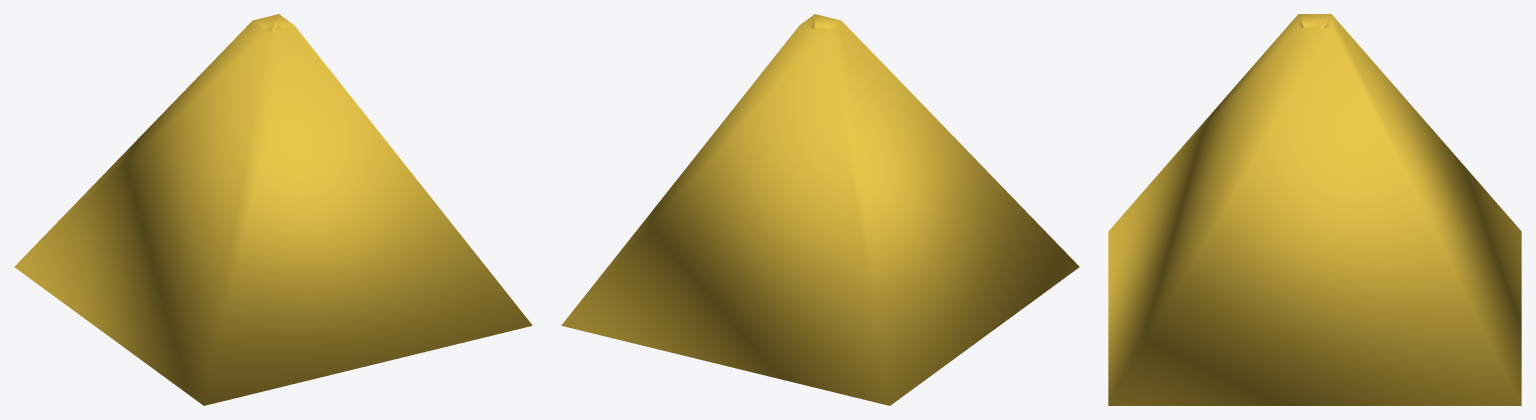
The model's file is warehouse.fbx.
3 views of the same model, side by side, from view 1: azimuth 30°, elevation 25°; view 2: azimuth 150°, elevation 25°; view 3: azimuth 270°, elevation 25° (orthographic). The views are drawn at different scales.
Visible parts, largest first — view 1: 平面.007; view 2: 平面.007; view 3: 平面.007.
Part boxes in pixels (x1,y1,x2,y2): 平面.007: (14,14,532,405); 平面.007: (561,14,1079,405); 平面.007: (1108,14,1521,405).
Bounding box in the file's own units: 463 × 368 × 463.
